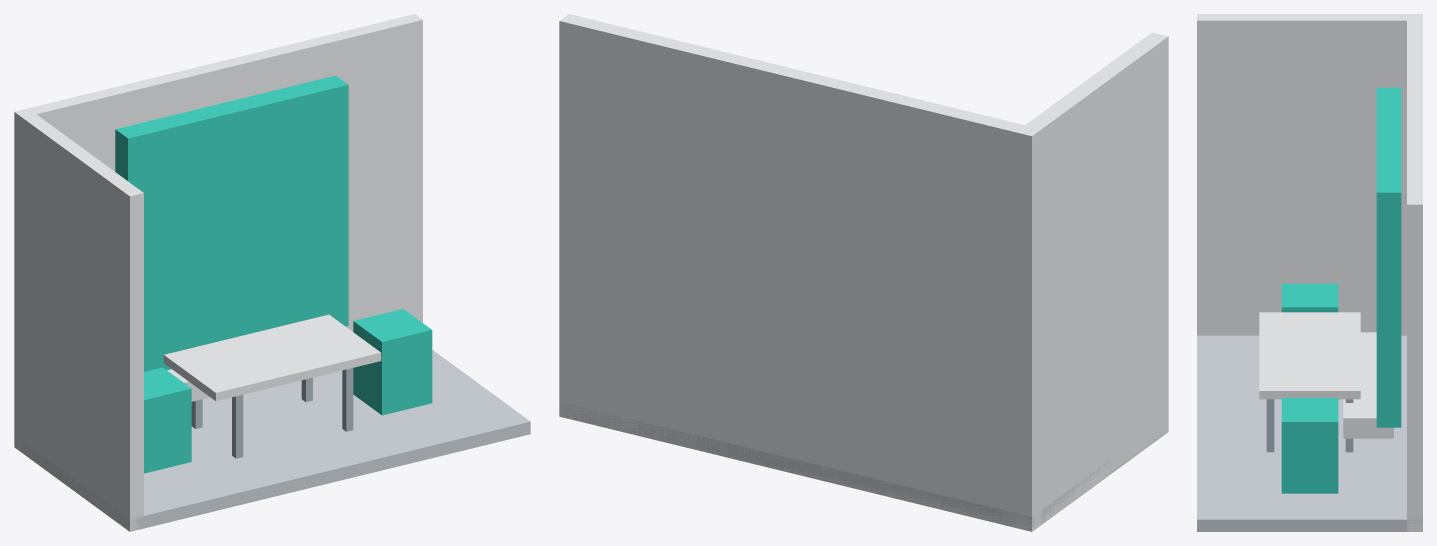
The picture shows the model from 3 angles, left to right: view 1: azimuth 30°, elevation 25°; view 2: azimuth 150°, elevation 25°; view 3: azimuth 270°, elevation 25°; orthographic projection. The views are drawn at different scales.
Visible parts, largest first — view 1: Exhibition Booth Concept; view 2: Exhibition Booth Concept; view 3: Exhibition Booth Concept.
Boxes of the visible parts, box(x1,y1,x2,y2) form: Exhibition Booth Concept: box(14, 14, 530, 531); Exhibition Booth Concept: box(559, 14, 1168, 531); Exhibition Booth Concept: box(1197, 14, 1422, 531).
Size of the model in its own units: 4 by 3.2 by 2.
